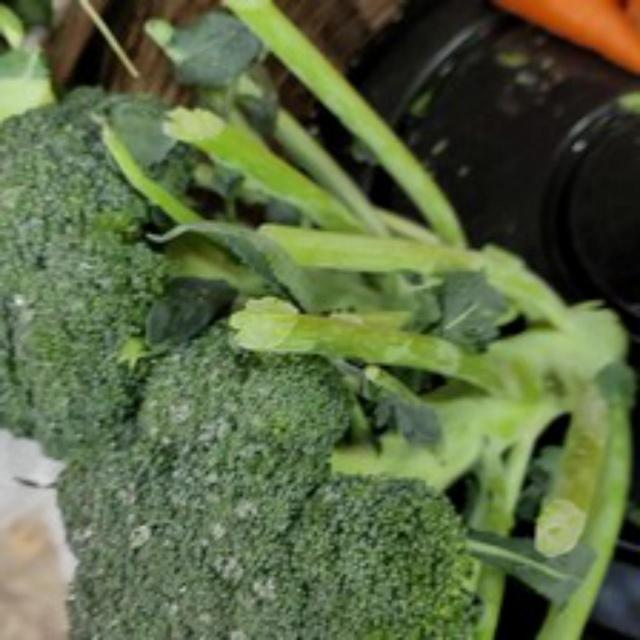broccoli: (48, 297, 482, 640)
